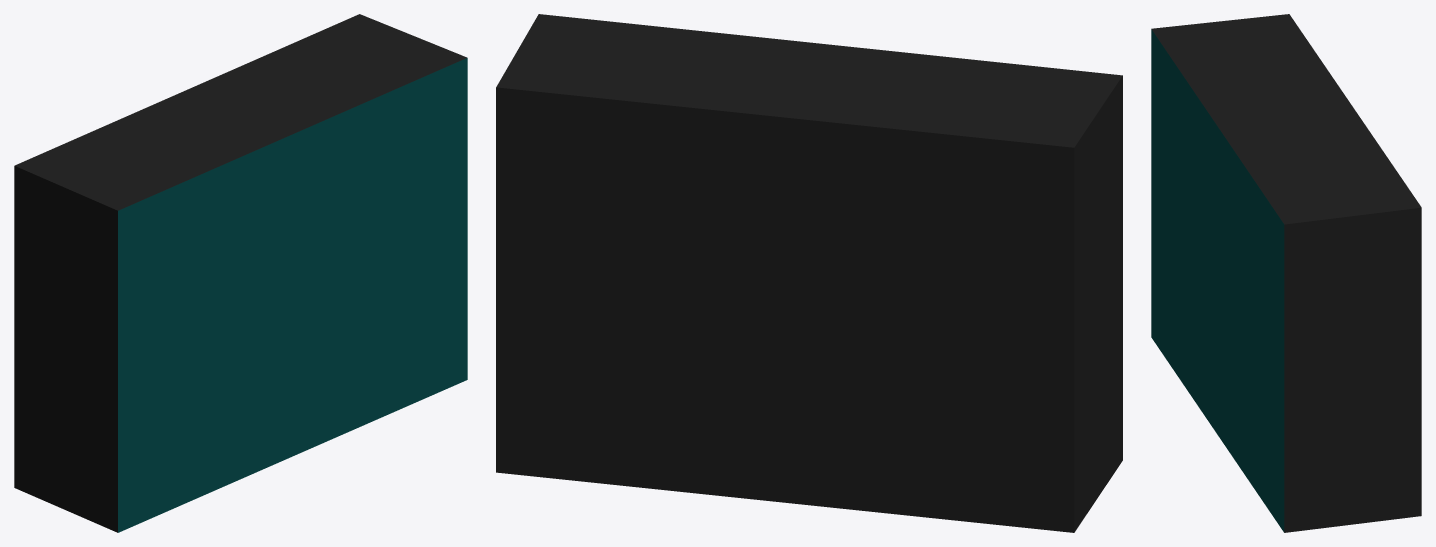
File: B_Werth_51_.FBX
3 renders of one model, left to right at view 1: azimuth 30°, elevation 25°; view 2: azimuth 150°, elevation 25°; view 3: azimuth 270°, elevation 25°, orthographic. The views are drawn at different scales.
Visible parts, largest first — view 1: B_Werth_51_front, B_Werth_51; view 2: B_Werth_51; view 3: B_Werth_51, B_Werth_51_front.
Boxes of the visible parts, x1,y1,x2,y2 form: B_Werth_51_front: [118, 58, 467, 532]; B_Werth_51: [14, 14, 466, 532]; B_Werth_51: [496, 14, 1122, 532]; B_Werth_51: [1151, 14, 1421, 532]; B_Werth_51_front: [1151, 29, 1284, 532].
Size of the model in its own units: 2342 by 1600 by 1272.
